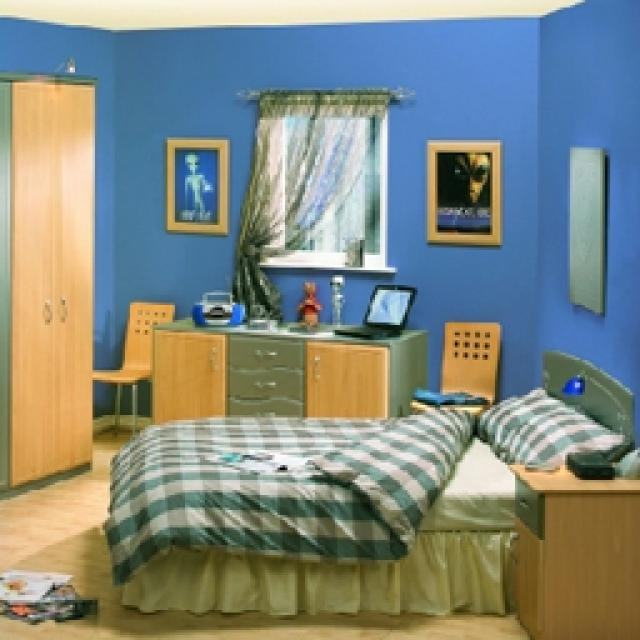2001: (460, 60, 638, 510)
air vent: (480, 5, 538, 32)
bath occluded: (550, 522, 585, 590)
bathtub: (405, 485, 638, 638)
cabinet door: (0, 365, 480, 585)
ceiling lamps: (328, 120, 345, 135)
drawers crop: (78, 385, 315, 560), (420, 372, 478, 478)
mirror crop: (0, 73, 438, 372)
painting crop: (80, 205, 142, 295)
sink basin: (32, 375, 168, 395), (318, 360, 382, 372)
sink occluded: (45, 335, 100, 375), (265, 330, 302, 368)
towel basket: (370, 390, 408, 490), (0, 435, 10, 570)
towel ring: (345, 388, 420, 405), (10, 425, 42, 442)
